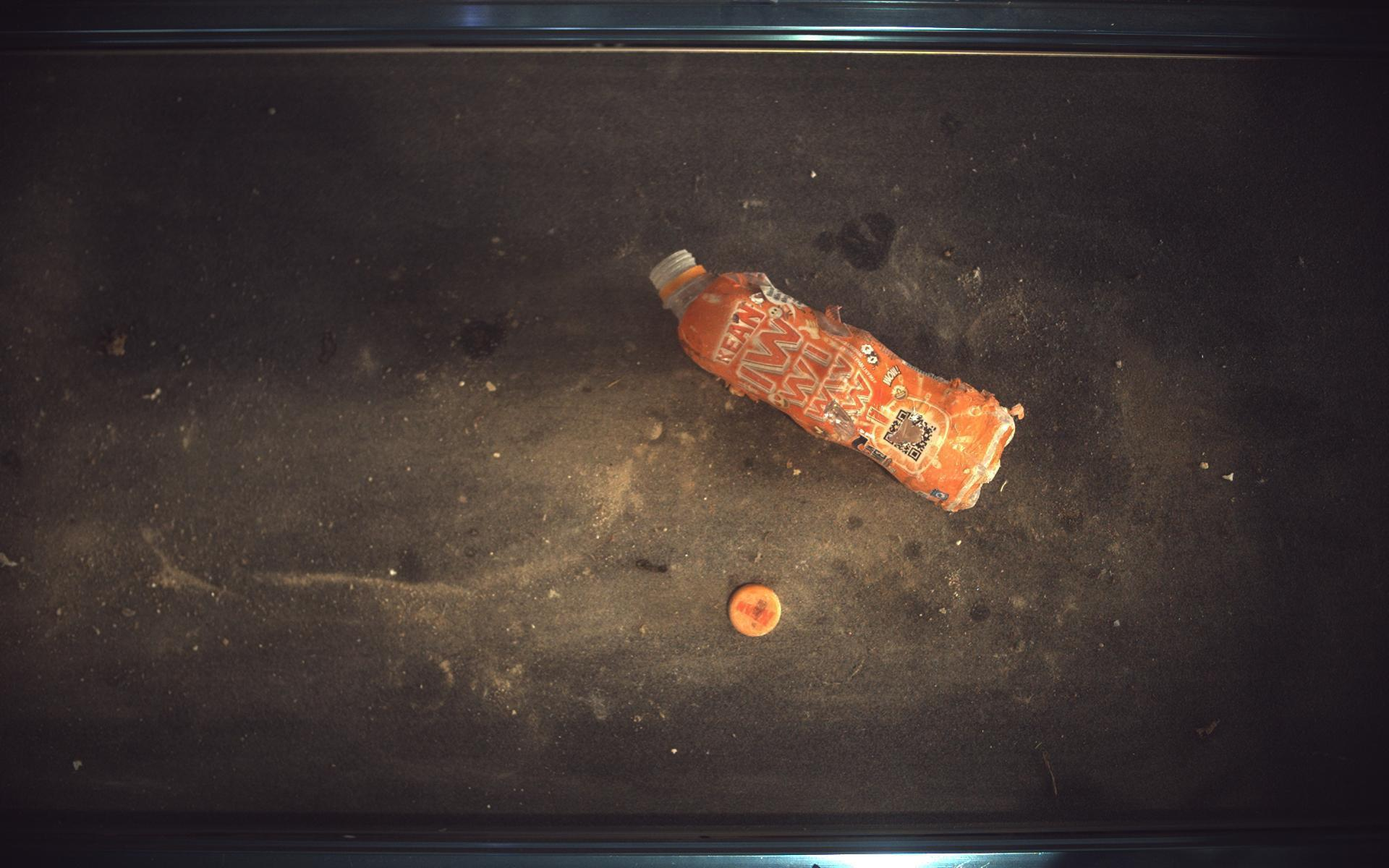general_w: (651, 250, 1026, 512), (730, 585, 783, 637)
